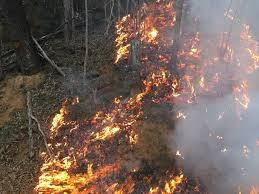fire: (37, 93, 149, 191), (144, 168, 187, 194)
